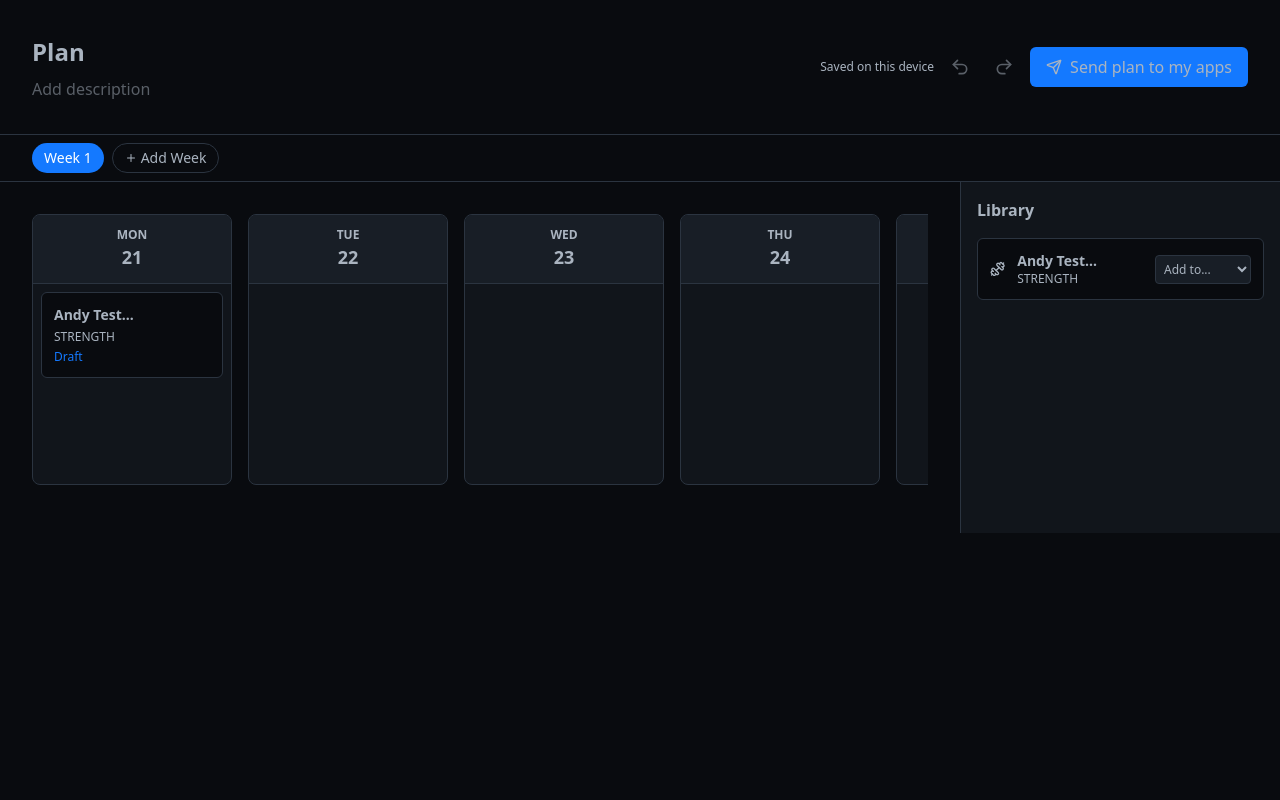
Test: Plan Send journey › the confirmation Send button executes dependency and plan publication and never claims device delivery
Expected: the field showing "Plan" is shown, [32,32,631,73]
Step 1. Click the button "Send plan to my apps" → {"x": 1139, "y": 67}, box [1030,47,1248,87]
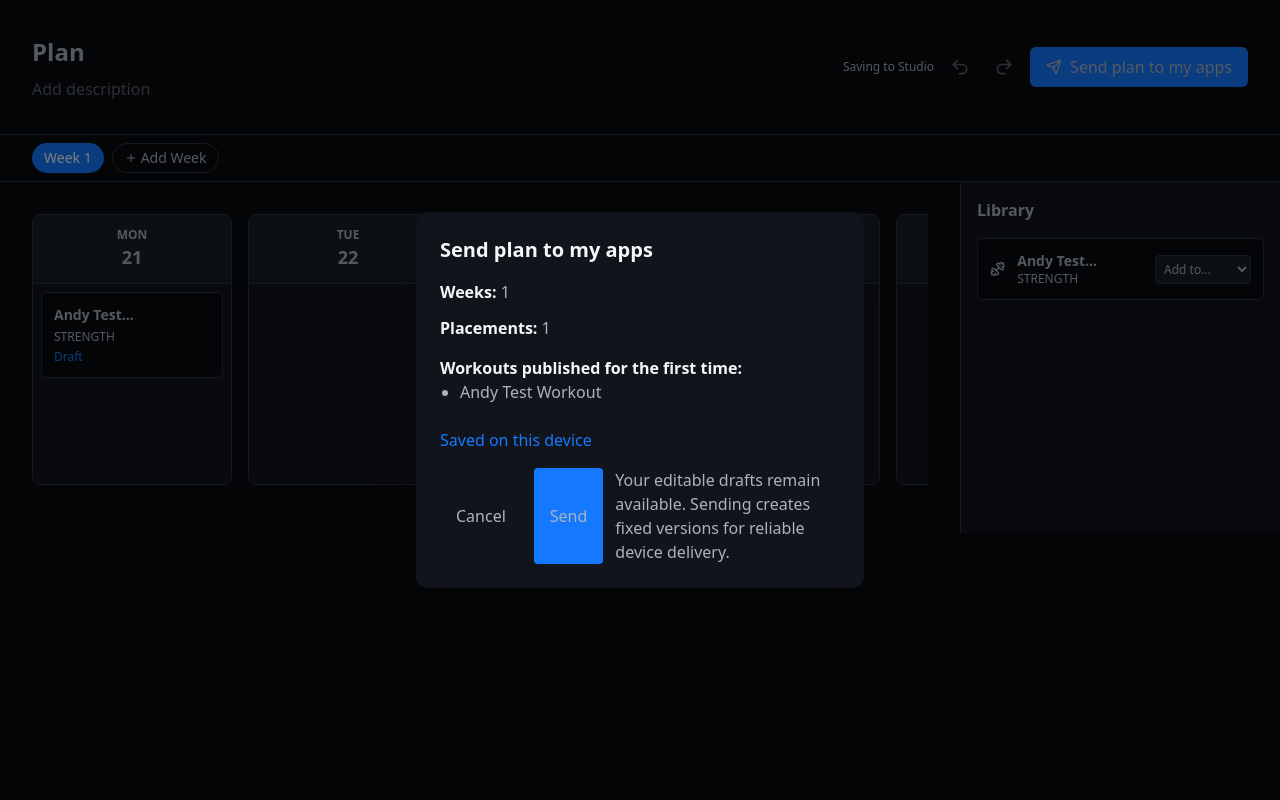
Result: the heading "Send plan to my apps" is shown at [440,236,653,263]
Result: the list item "Andy Test Workout" is shown at [460,381,601,403]
Step 2. Click the button "Send" → {"x": 569, "y": 516}, box [534,468,603,564]
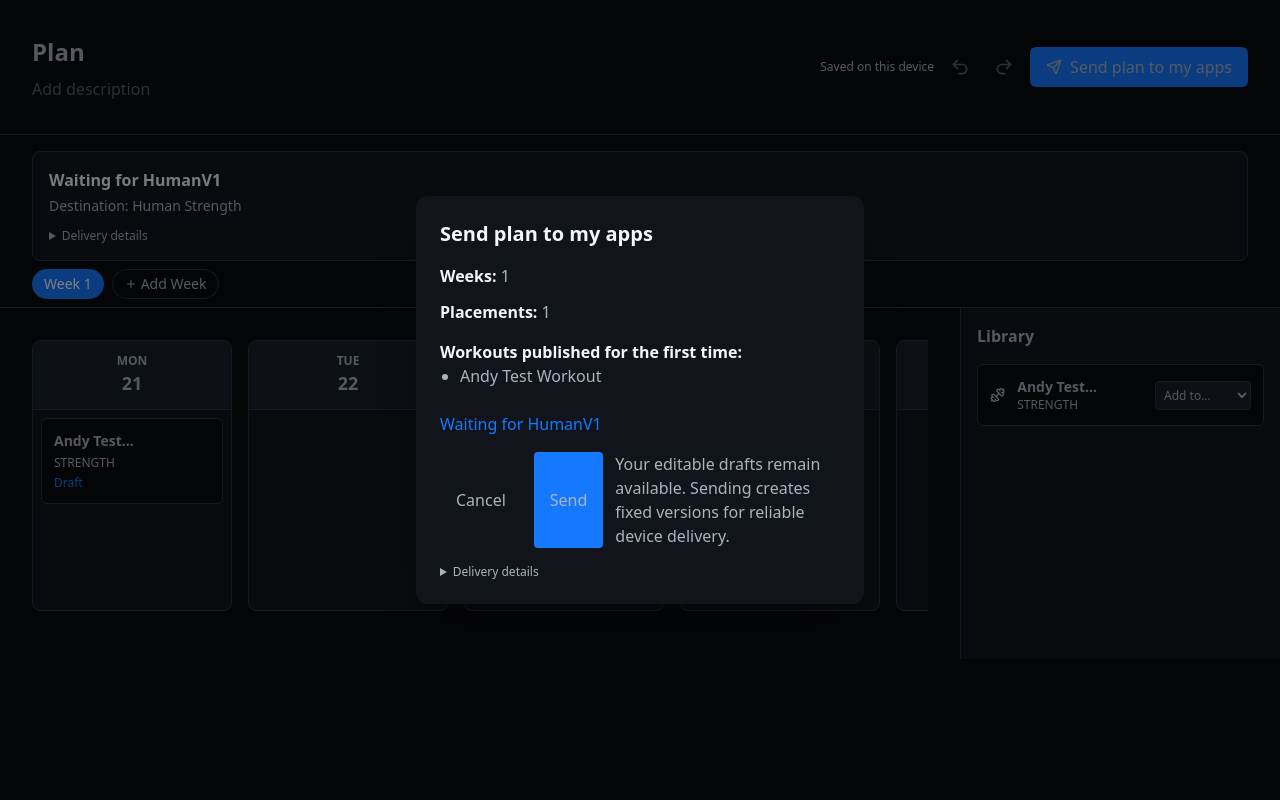
Result: the heading "Waiting for HumanV1" is shown at [49,169,221,191]
